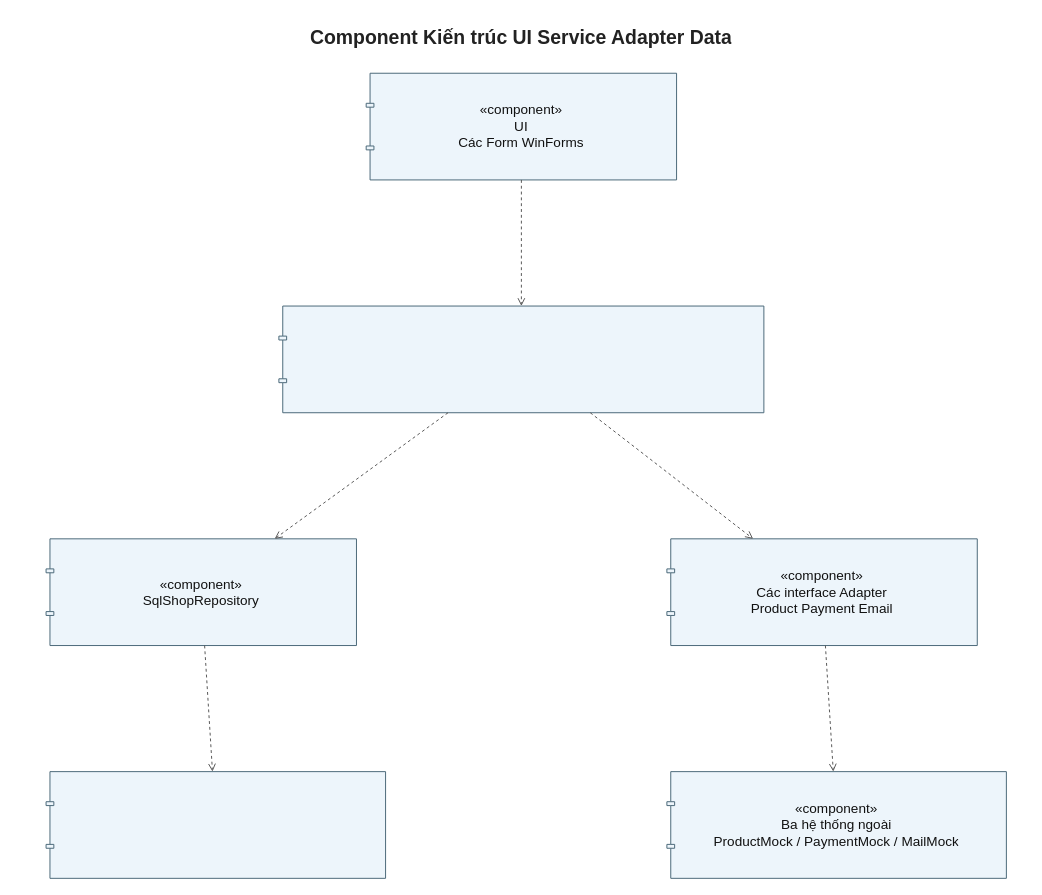
Some shapes in this 1042 by 895 pixel diagram are drawn without their labels. Here are the shapes that lost their labels. From the top down, the box of each, then its label:
(278, 305, 764, 413): «component» Service Account Catalog Cart Checkout Rules
(45, 771, 386, 878): «component» SQL Server e-SHOPPING Customer Order Attempt Outbox
